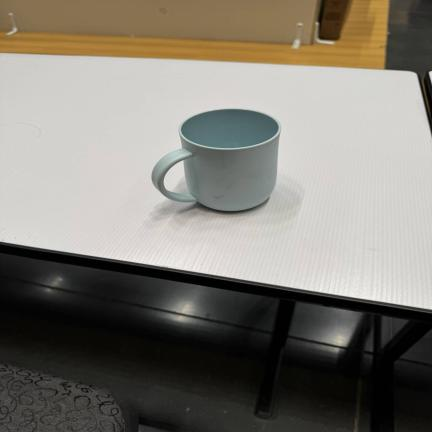cup: (152, 109, 281, 211)
